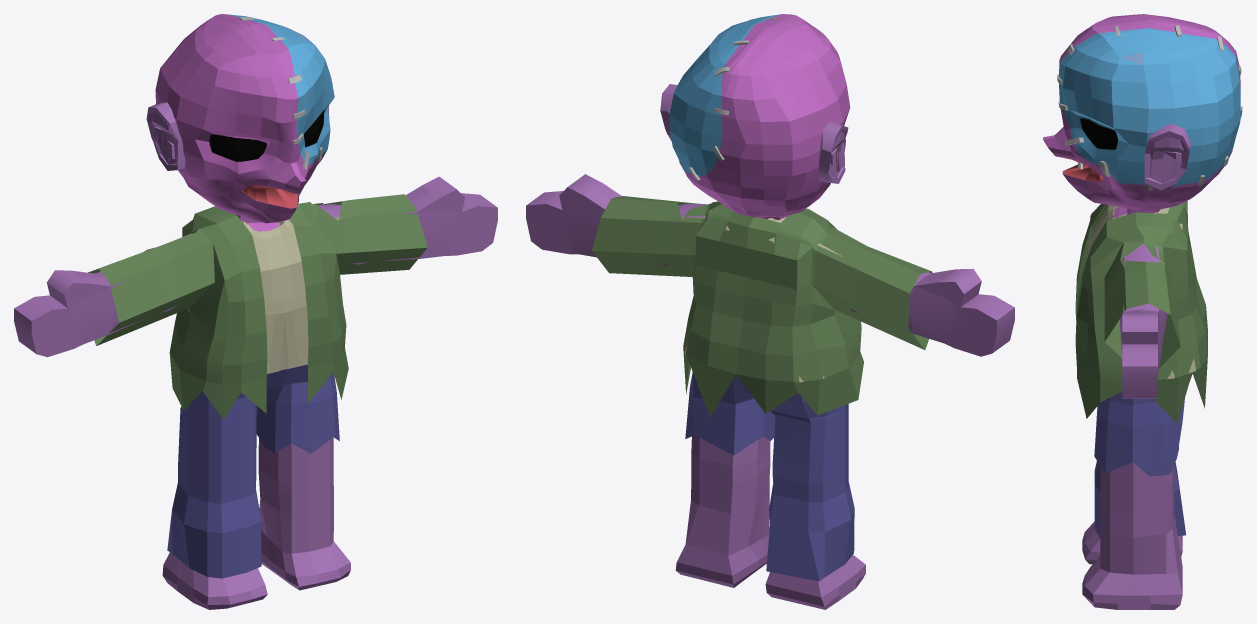
Rendered from zombi(kari_1).fbx.
The picture shows the model from 3 angles, left to right: view 1: azimuth 30°, elevation 25°; view 2: azimuth 150°, elevation 25°; view 3: azimuth 270°, elevation 25°; orthographic projection.
Visible parts, largest first — view 1: mimi3; view 2: mimi3; view 3: mimi3.
Boxes of the visible parts, x1,y1,x2,y2 form: mimi3: [14, 14, 497, 609]; mimi3: [526, 14, 1014, 609]; mimi3: [1043, 14, 1242, 609].
Size of the model in its own units: 91.24 by 103 by 33.54.
Materials: 8 (1 with a texture image).
